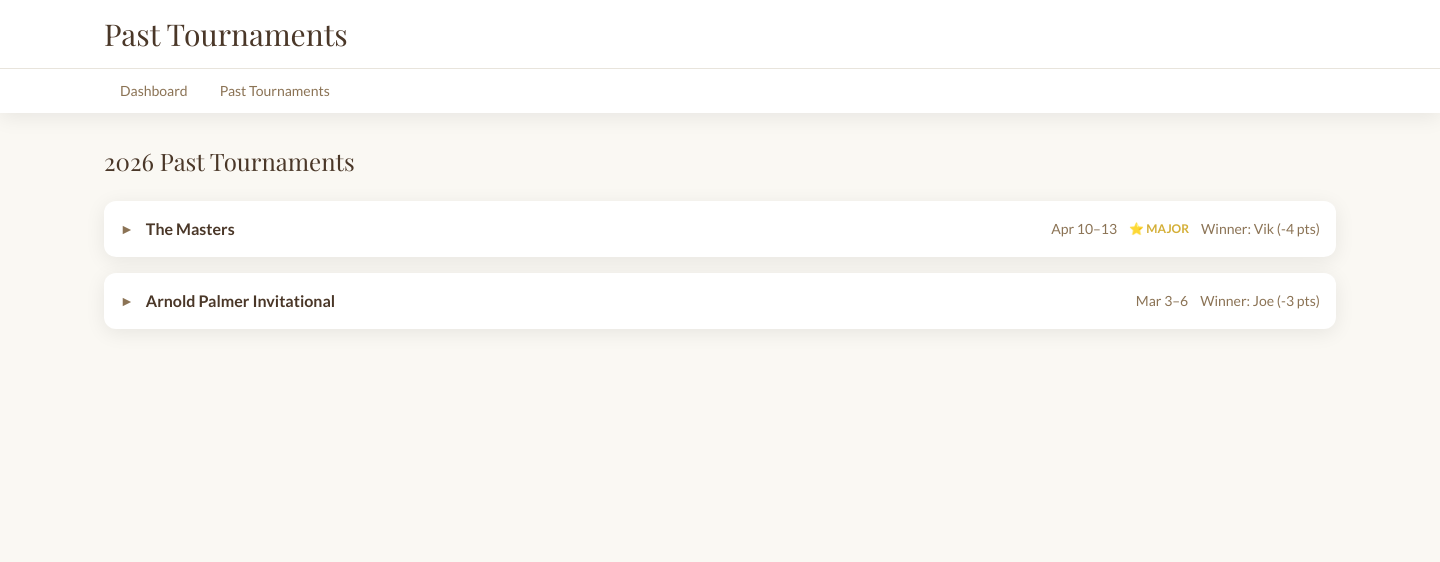
Scenario: PastTournaments › Accordion Behavior › should use cached results on re-expand
The image size is (1440, 562).
Expected: the text "The Masters" is shown, x1=146 y1=219 x2=235 y2=238
Click the button "► The Masters Apr 10–13 ⭐ MAJOR Winner: Vik (-4 pts)" at (190, 228), box x1=104 y1=201 x2=1336 y2=257
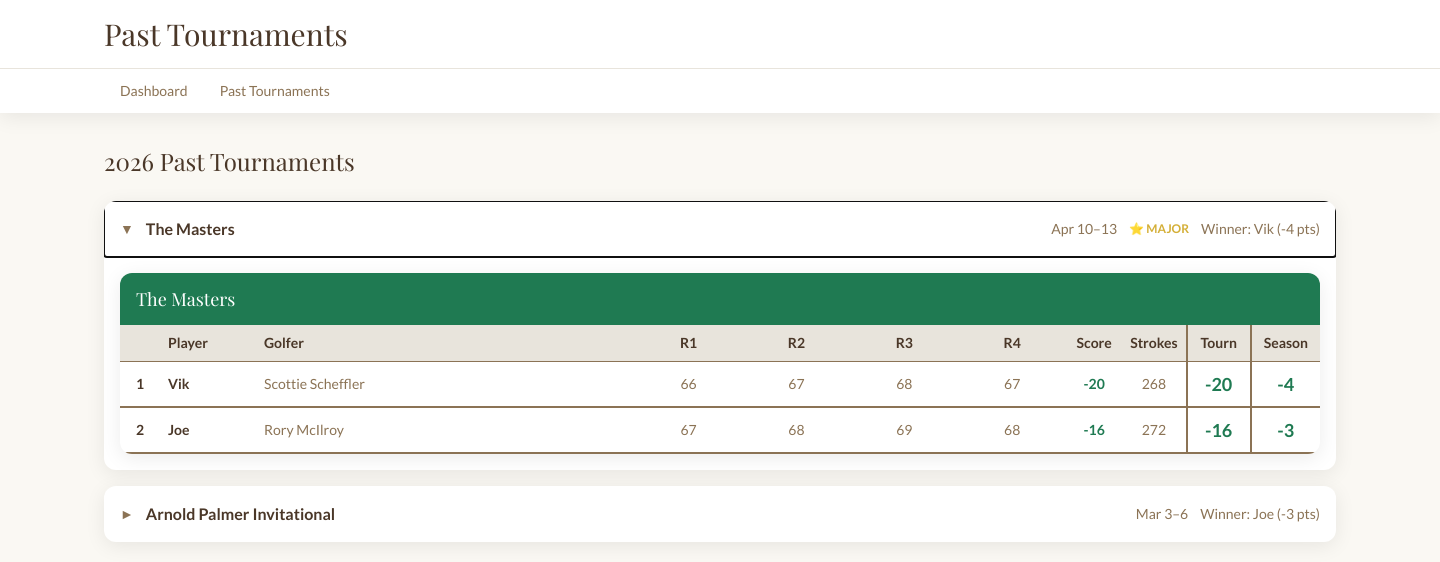
Expected: the text "Scottie Scheffler" is shown, x1=264 y1=374 x2=365 y2=394
Click the button "▼ The Masters Apr 10–13 ⭐ MAJOR Winner: Vik (-4 pts)" at (190, 228), box x1=104 y1=201 x2=1336 y2=257
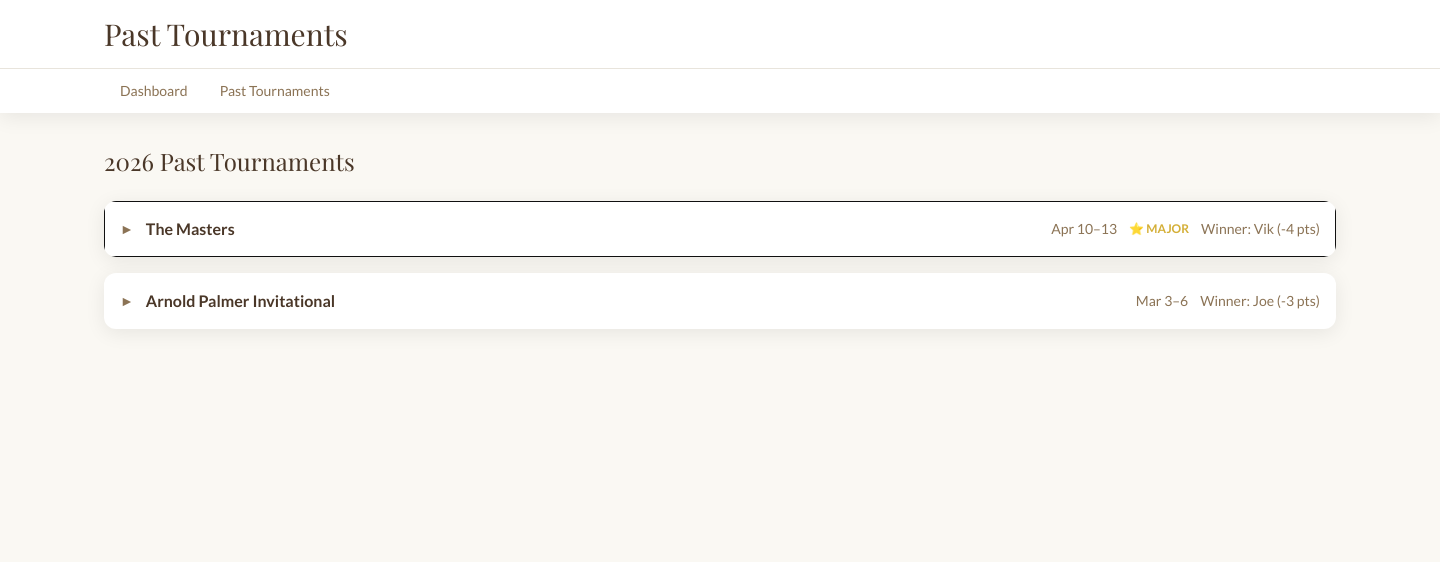
Expected: the text "Scottie Scheffler" is gone
Click the button "► The Masters Apr 10–13 ⭐ MAJOR Winner: Vik (-4 pts)" at (190, 228), box x1=104 y1=201 x2=1336 y2=257
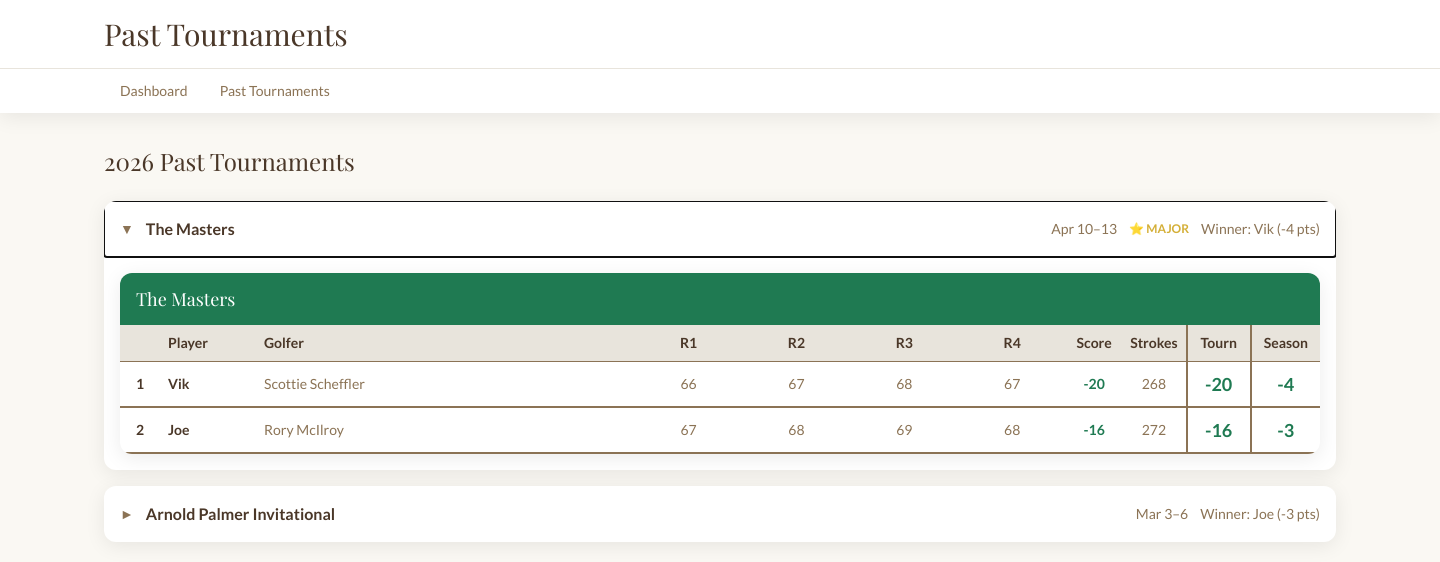
Expected: the text "Scottie Scheffler" is shown, x1=264 y1=374 x2=365 y2=394
